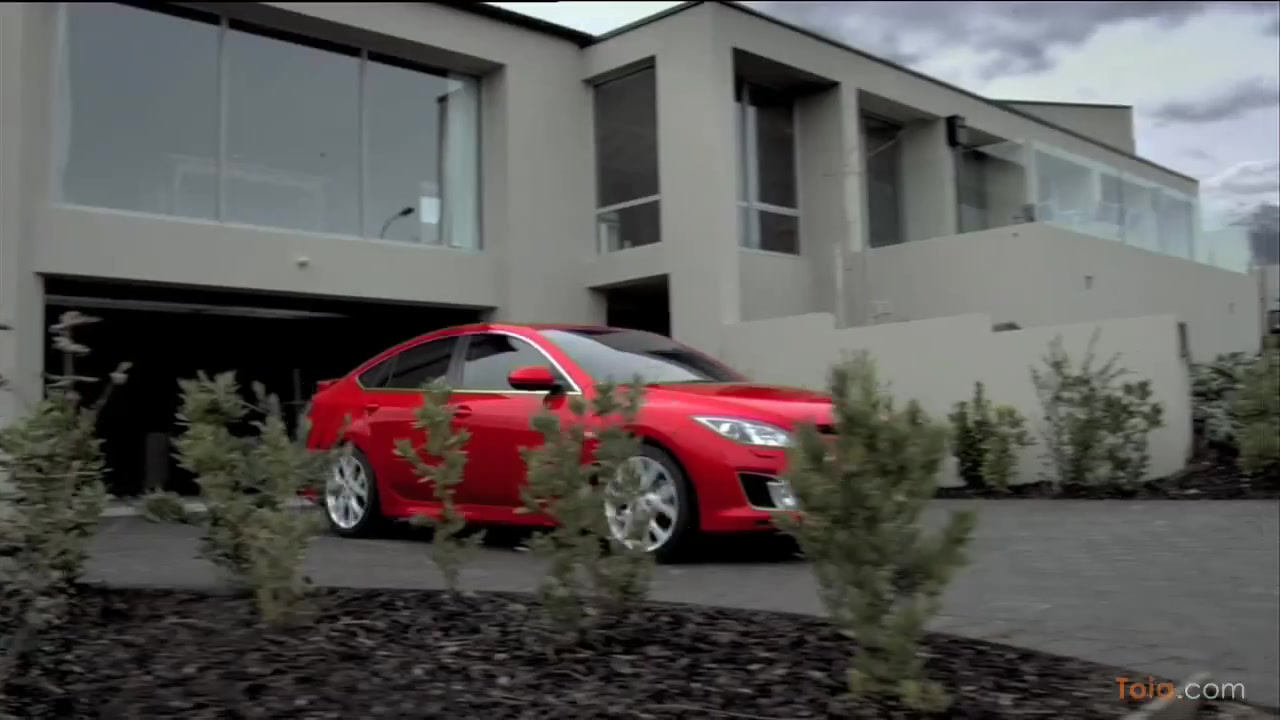car: (298, 314, 864, 552)
